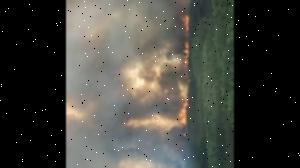fire: (174, 4, 194, 128)
